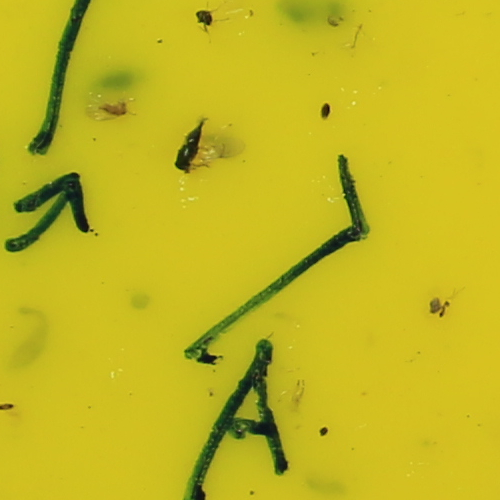Psyllaephagus: (173, 114, 214, 170)
